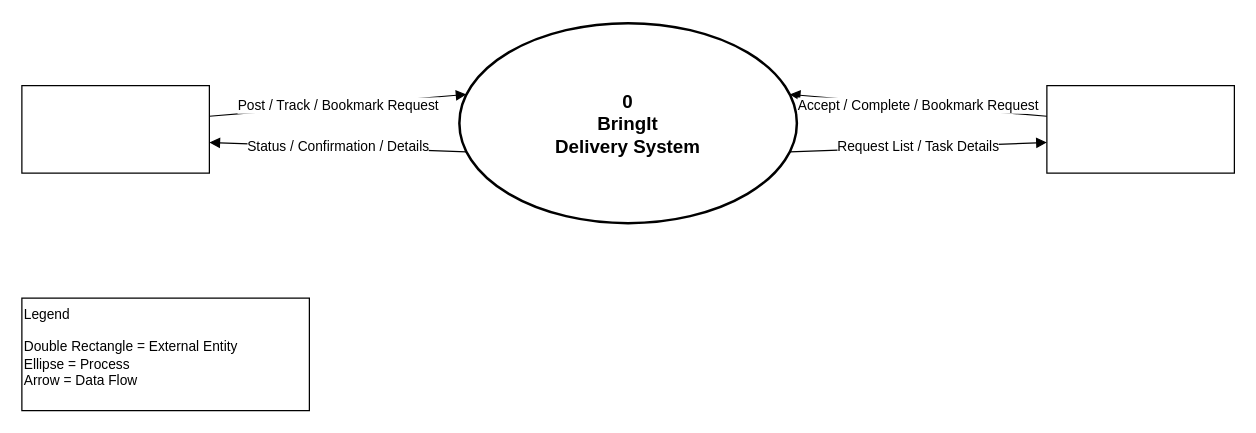
The diagram is 1256 pixels wide and 433 high, and some of its shapes have lost their labels. The shapes that lost their labels are listed below. From the top down, each one's centre as x and y in pixels, then its label:
[115,128]: Requester
[1140,128]: Deliverer
